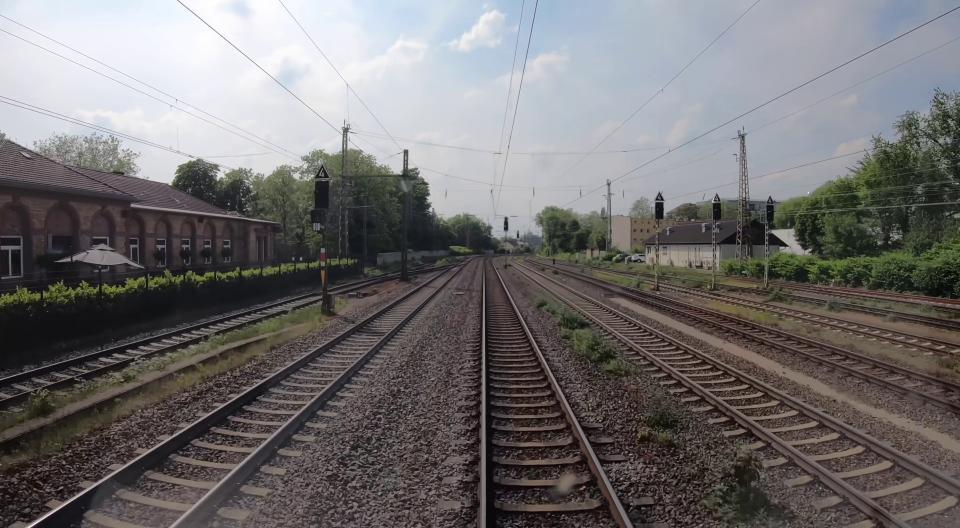Plant: (0, 298, 346, 433), (25, 320, 319, 450), (712, 302, 960, 380), (704, 445, 790, 528), (567, 329, 618, 364), (643, 387, 681, 429), (593, 273, 652, 291), (636, 430, 681, 449), (559, 308, 589, 329), (536, 297, 559, 315), (768, 290, 792, 304), (826, 298, 842, 312), (682, 279, 702, 288), (768, 289, 782, 301), (886, 313, 895, 322)
